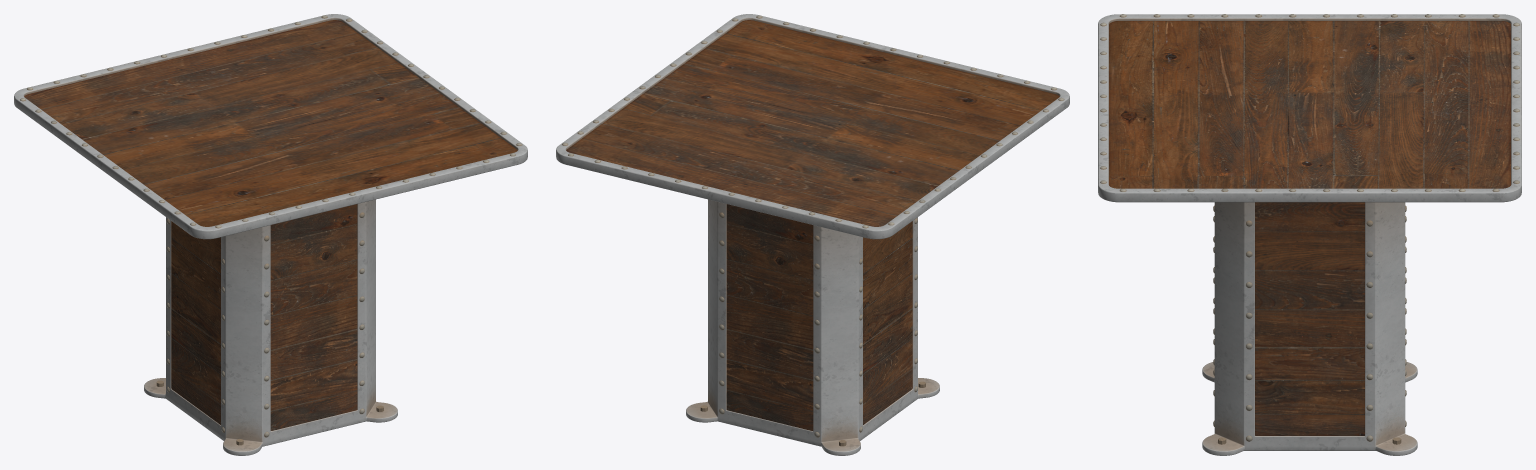
Rendered from ShipTable.fbx.
3 views of the same model, side by side, from view 1: azimuth 30°, elevation 25°; view 2: azimuth 150°, elevation 25°; view 3: azimuth 270°, elevation 25° (orthographic). The views are drawn at different scales.
Visible parts, largest first — view 1: Table; view 2: Table; view 3: Table.
Part boxes in pixels (<box>): Table: <box>14,14,527,455</box>; Table: <box>556,14,1069,455</box>; Table: <box>1098,14,1521,455</box>.
Bounding box in the file's own units: 100 × 80.44 × 100.
1 material, 1 textured.
